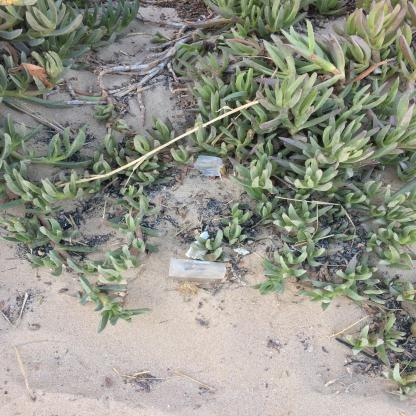plastik: (170, 258, 228, 280), (195, 157, 224, 178)
